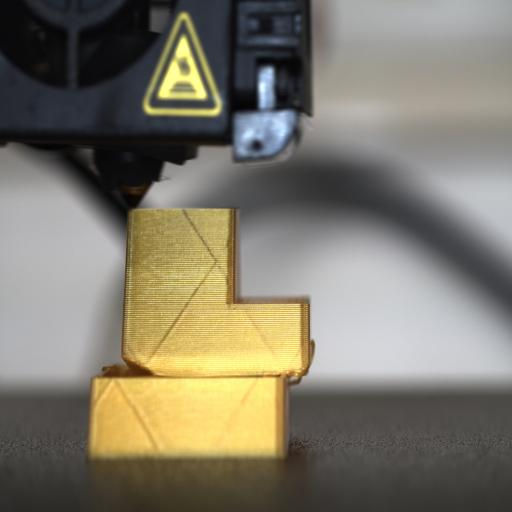layer_shift: (90, 352, 314, 380)
